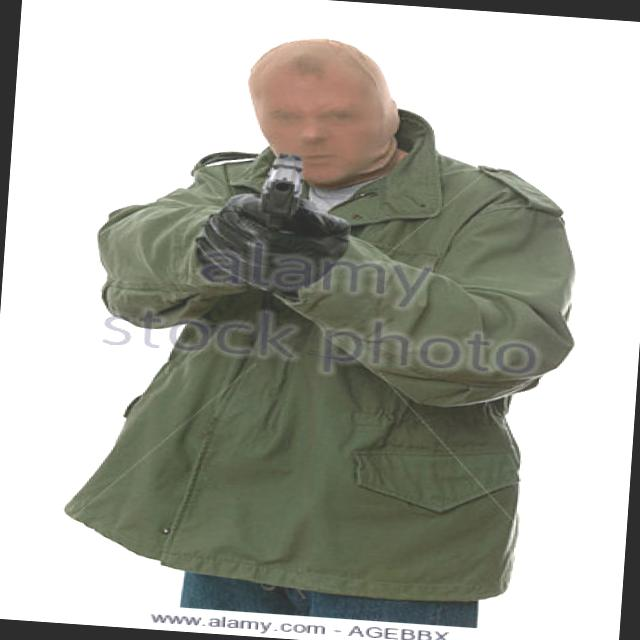handgun: (250, 148, 310, 235)
